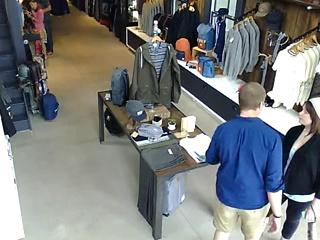Normal: (205, 81, 284, 239), (279, 99, 320, 240), (36, 0, 54, 56)
